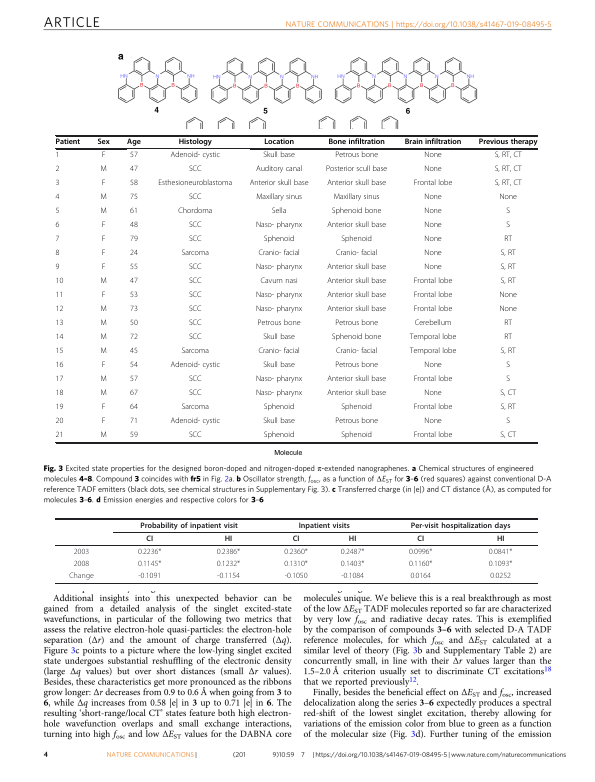borderless: (54, 134, 537, 442), (55, 517, 538, 583)
cell: (410, 521, 511, 530), (139, 521, 239, 530), (157, 179, 233, 189), (325, 165, 388, 175), (326, 179, 387, 189), (326, 221, 387, 231), (326, 263, 387, 273), (326, 277, 387, 287), (326, 291, 387, 301), (326, 305, 387, 315), (326, 375, 387, 385), (326, 389, 387, 399), (249, 179, 309, 189), (478, 138, 538, 147), (327, 138, 386, 147), (404, 138, 462, 147), (169, 151, 221, 161), (169, 361, 221, 371), (169, 417, 221, 427), (331, 207, 382, 217), (331, 333, 382, 343), (255, 165, 303, 175), (255, 193, 303, 203), (255, 221, 303, 231), (255, 263, 303, 273), (255, 291, 303, 301), (255, 305, 303, 315), (409, 333, 457, 343), (409, 347, 457, 357), (255, 375, 303, 385), (255, 389, 303, 399), (298, 521, 351, 530), (333, 193, 380, 203), (334, 151, 379, 161), (334, 319, 379, 329), (334, 361, 379, 371), (334, 417, 379, 427), (257, 249, 301, 259), (257, 319, 301, 329), (257, 347, 301, 357), (335, 249, 378, 259), (335, 347, 378, 357), (413, 179, 453, 189), (259, 277, 299, 287), (413, 277, 453, 287), (413, 291, 453, 301), (413, 305, 453, 315), (413, 375, 453, 385), (413, 403, 453, 413), (413, 431, 453, 441), (414, 319, 452, 329), (177, 207, 213, 217), (262, 151, 296, 161), (262, 333, 296, 343), (262, 361, 296, 371), (262, 417, 296, 427), (340, 235, 373, 245), (340, 403, 373, 413), (340, 431, 373, 441), (263, 235, 295, 245), (263, 403, 295, 413), (263, 431, 295, 441), (178, 138, 213, 147), (180, 249, 210, 259), (180, 347, 210, 357), (180, 403, 210, 413), (494, 151, 523, 161), (494, 165, 523, 175), (494, 179, 523, 189), (263, 138, 295, 147), (68, 571, 95, 581), (283, 547, 309, 557), (283, 559, 309, 569), (137, 547, 162, 557), (216, 547, 241, 557), (340, 547, 365, 557), (408, 547, 433, 557), (488, 547, 513, 557), (137, 559, 162, 569), (216, 559, 241, 569), (340, 559, 365, 569), (408, 559, 433, 569), (488, 559, 513, 569), (137, 571, 162, 581), (216, 571, 241, 581), (340, 571, 365, 581), (284, 571, 308, 581), (55, 138, 81, 147), (409, 571, 432, 581), (489, 571, 512, 581), (423, 151, 443, 161), (423, 165, 443, 175), (423, 193, 443, 203), (498, 193, 518, 203), (423, 207, 443, 217), (423, 221, 443, 231), (423, 235, 443, 245), (423, 249, 443, 259), (423, 263, 443, 273), (498, 291, 518, 301), (498, 305, 518, 315), (423, 361, 443, 371), (423, 389, 443, 399), (423, 417, 443, 427), (499, 389, 517, 399), (499, 431, 517, 441), (73, 547, 90, 557), (73, 559, 90, 569), (500, 249, 517, 259), (500, 263, 517, 273), (500, 277, 517, 287), (500, 347, 517, 357), (500, 403, 517, 413), (271, 207, 287, 217), (126, 138, 142, 147), (188, 165, 202, 175), (188, 193, 202, 203), (188, 221, 202, 231), (188, 235, 202, 245), (188, 263, 202, 273), (188, 277, 202, 287), (188, 291, 202, 301), (188, 305, 202, 315), (188, 319, 202, 329), (188, 333, 202, 343), (188, 375, 202, 385), (188, 389, 202, 399), (188, 431, 202, 441), (96, 138, 111, 147), (129, 151, 139, 161), (129, 165, 139, 175), (129, 179, 139, 189), (129, 193, 139, 203), (129, 207, 139, 217), (129, 221, 139, 231), (129, 235, 139, 245), (503, 235, 513, 245), (129, 249, 139, 259), (129, 263, 139, 273), (129, 277, 139, 287), (129, 291, 139, 301), (129, 305, 139, 315), (129, 319, 139, 329), (503, 319, 513, 329), (129, 333, 139, 343), (503, 333, 513, 343), (129, 347, 139, 357), (129, 361, 139, 371), (129, 375, 139, 385), (129, 389, 139, 399), (129, 403, 139, 413), (129, 417, 139, 427), (129, 431, 139, 441), (145, 534, 154, 544), (224, 534, 233, 544), (348, 534, 357, 544), (416, 534, 425, 544), (496, 534, 505, 544), (99, 165, 108, 175), (99, 193, 108, 203), (99, 207, 108, 217), (55, 277, 64, 287), (99, 277, 108, 287), (55, 291, 64, 301), (55, 305, 64, 315), (99, 305, 108, 315), (55, 319, 64, 329), (99, 319, 108, 329), (55, 333, 64, 343), (99, 333, 108, 343), (55, 347, 64, 357), (99, 347, 108, 357), (55, 361, 64, 371), (55, 375, 64, 385), (99, 375, 108, 385), (55, 389, 64, 399), (99, 389, 108, 399), (55, 403, 64, 413), (55, 417, 64, 427), (55, 431, 64, 441), (99, 431, 108, 441), (292, 534, 300, 544), (505, 207, 511, 217), (505, 221, 511, 231), (505, 361, 511, 371), (505, 375, 511, 385), (505, 417, 511, 427), (55, 151, 60, 161), (101, 151, 106, 161), (55, 165, 60, 175), (55, 179, 60, 189), (101, 179, 106, 189), (55, 193, 60, 203), (55, 207, 60, 217), (55, 221, 60, 231), (101, 221, 106, 231), (55, 235, 60, 245), (101, 235, 106, 245), (55, 249, 60, 259), (101, 249, 106, 259), (55, 263, 60, 273), (101, 263, 106, 273), (101, 291, 106, 301), (101, 361, 106, 371), (101, 403, 106, 413), (101, 417, 106, 427)
